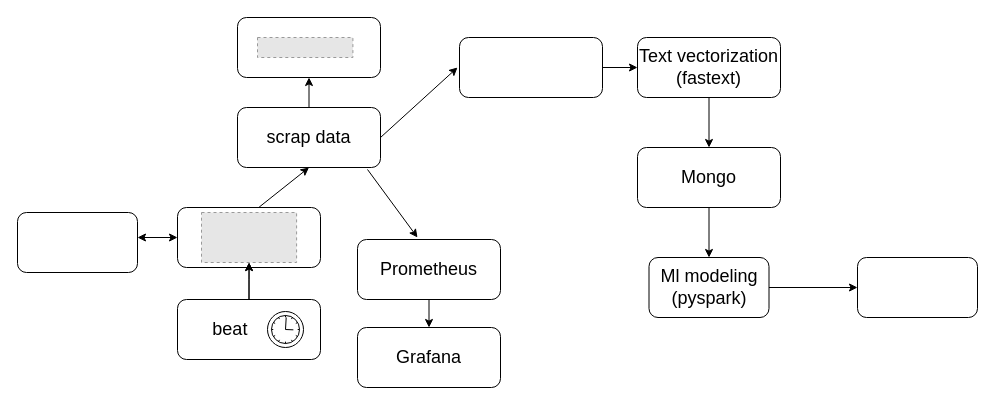
The diagram is 995 pixels wide and 405 high, and some of its shapes have lost their labels. Grey dashed boxes stand in for pictures. The shapes that lost their labels are listed below. From the top down, each one's centre as x and y in pixels, then its label:
At (530,67): "language detection".
At (77,242): "rabbit".
At (917,287): "grpc server".
